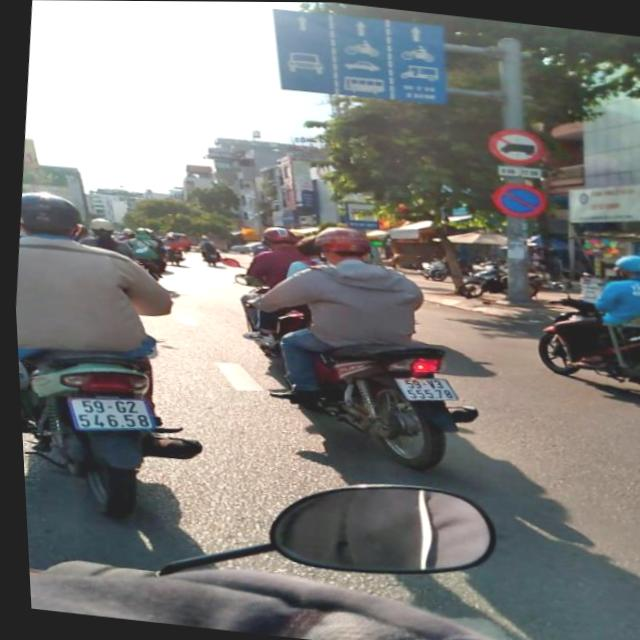Ben xe buyt: (339, 199, 381, 231)
Cam do xe: (486, 179, 547, 220)
Cam xe tai: (483, 124, 546, 167)
